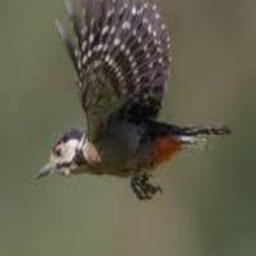Woodpecker: (30, 0, 230, 198)
